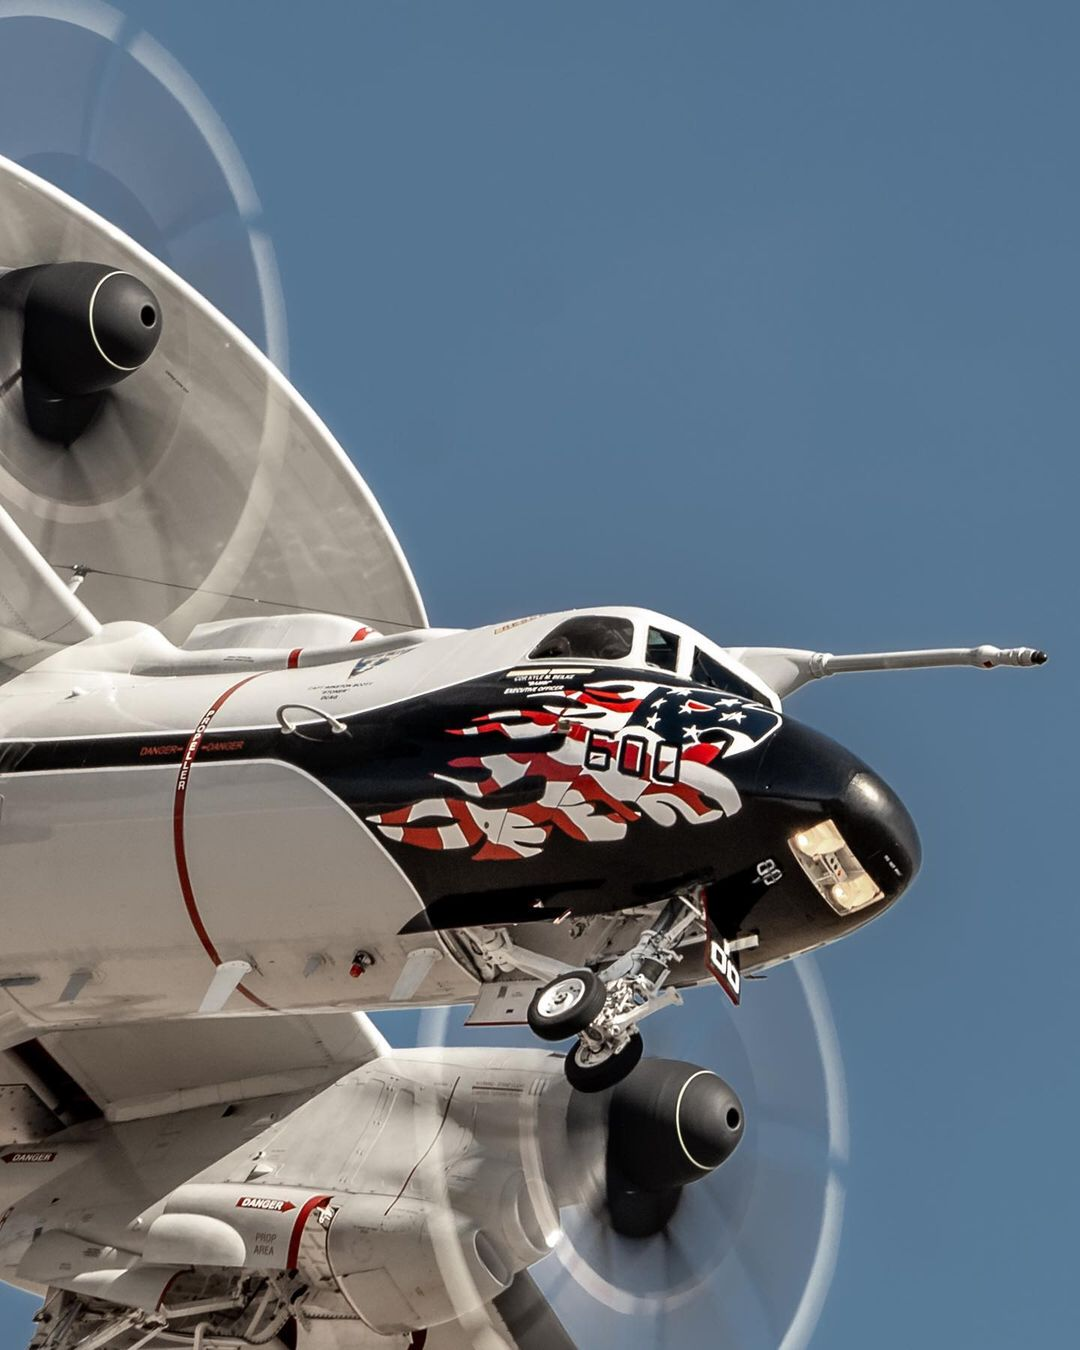E2: (1, 1, 1049, 1350)
